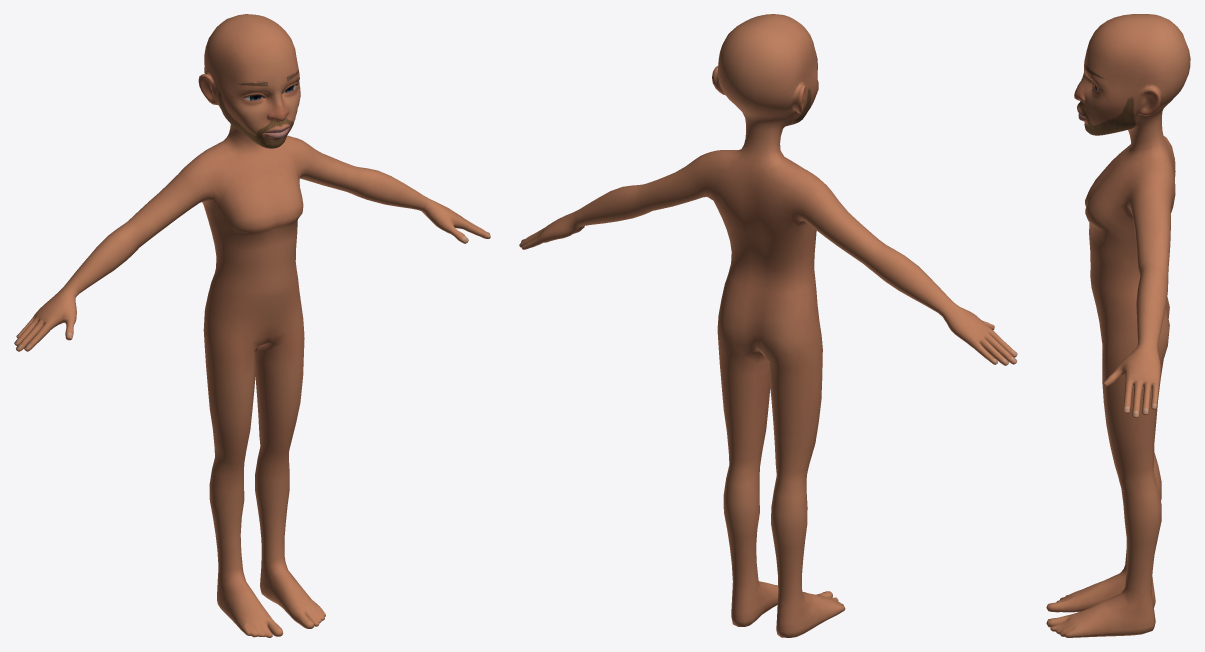
The model's file is frame_0020.glb.
The picture shows the model from 3 angles, left to right: view 1: azimuth 30°, elevation 25°; view 2: azimuth 150°, elevation 25°; view 3: azimuth 270°, elevation 25°; orthographic projection. The views are drawn at different scales.
Parts seen in each view (by area): view 1: frame_0020_head_geo; view 2: frame_0020_head_geo; view 3: frame_0020_head_geo.
Part boxes in pixels (x1,y1,x2,y2): frame_0020_head_geo: (14,14,490,637); frame_0020_head_geo: (519,14,1017,637); frame_0020_head_geo: (1046,14,1190,637).
Size of the model in its own units: 1.28 by 1.5 by 0.3253.
3 materials, 3 textured.
